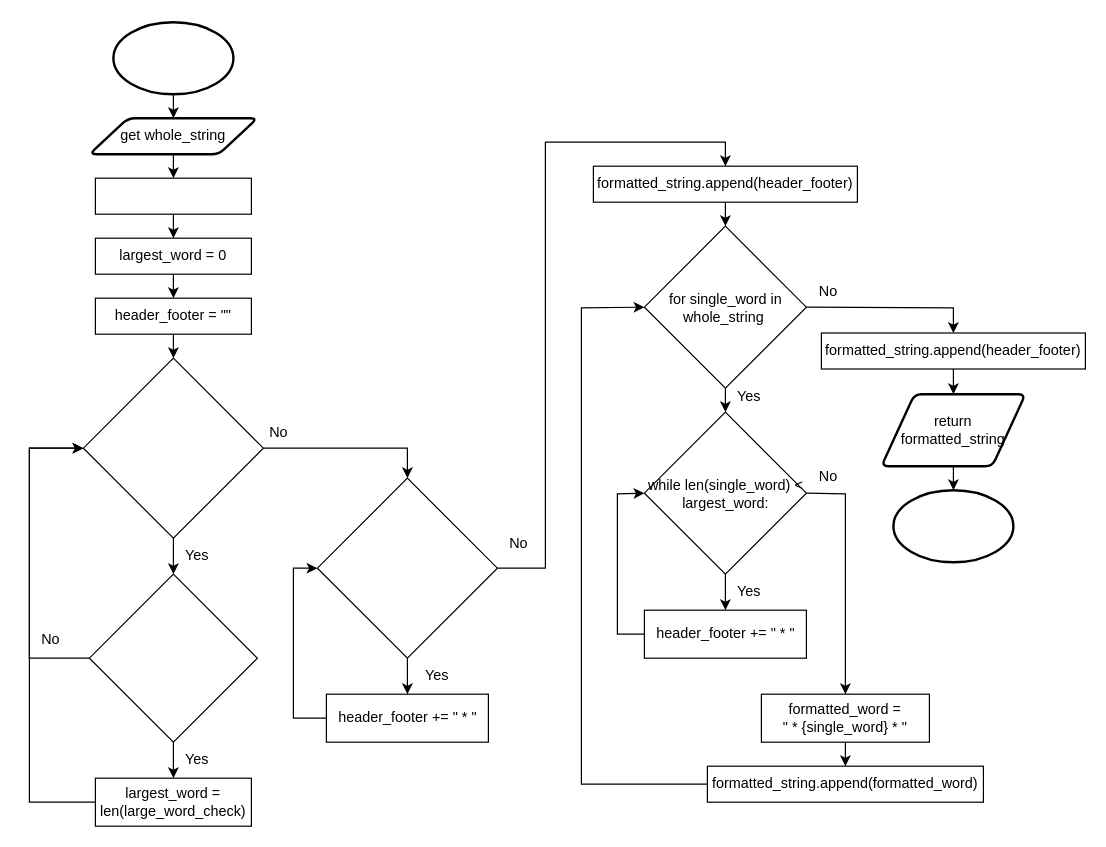
Some shapes in this 1106 by 847 pixel diagram are drawn without their labels. The box of each missing label's shape, as (x1, y1, x2, y2) in pixels:
for counter in range(4 + largest_word): (316, 477, 497, 658)
for large_word_check in whole_string: (82, 357, 263, 538)
formatted_string = [ ]: (94, 177, 251, 214)
if len(large_word_check) > largest_word: (88, 573, 257, 742)
Start: (112, 20, 234, 95)
Stop: (892, 488, 1014, 563)
